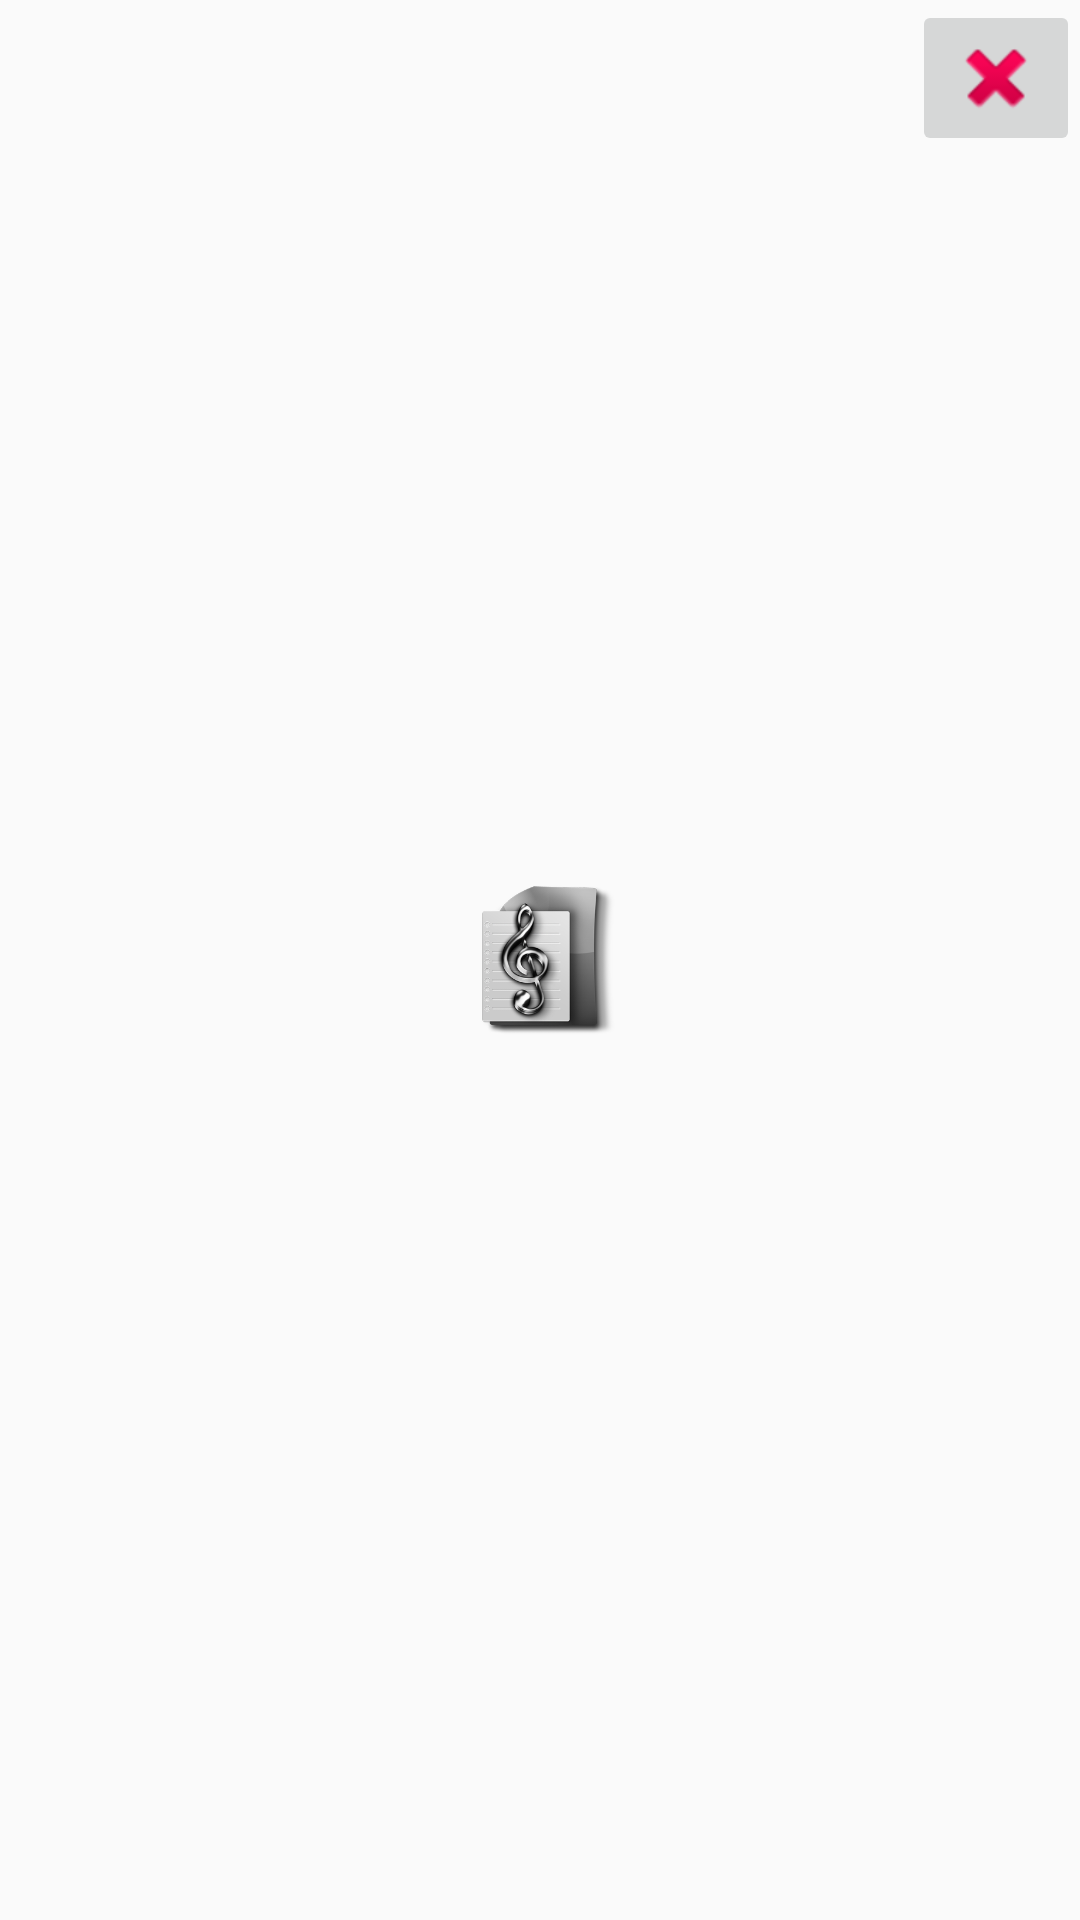

Icon bounding boxes for this 1080px x 1920px phone screenshot, format (x1, y1, x2, y2):
delete: (924, 18, 1068, 138)
